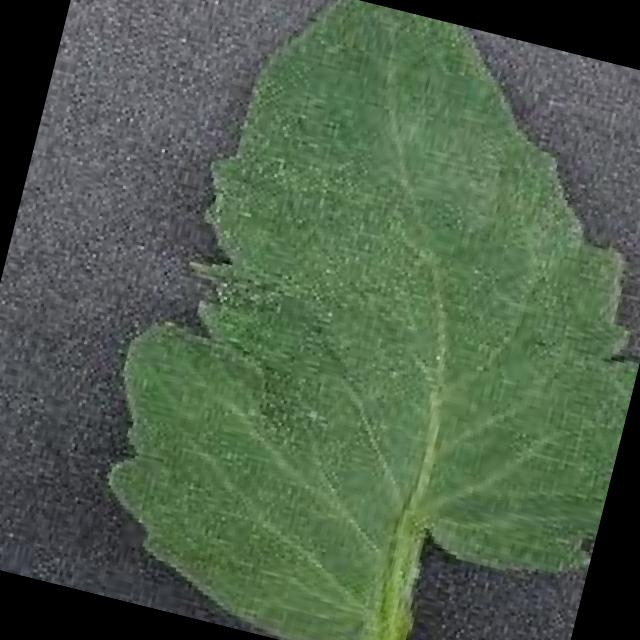healthy: (99, 0, 638, 640)
